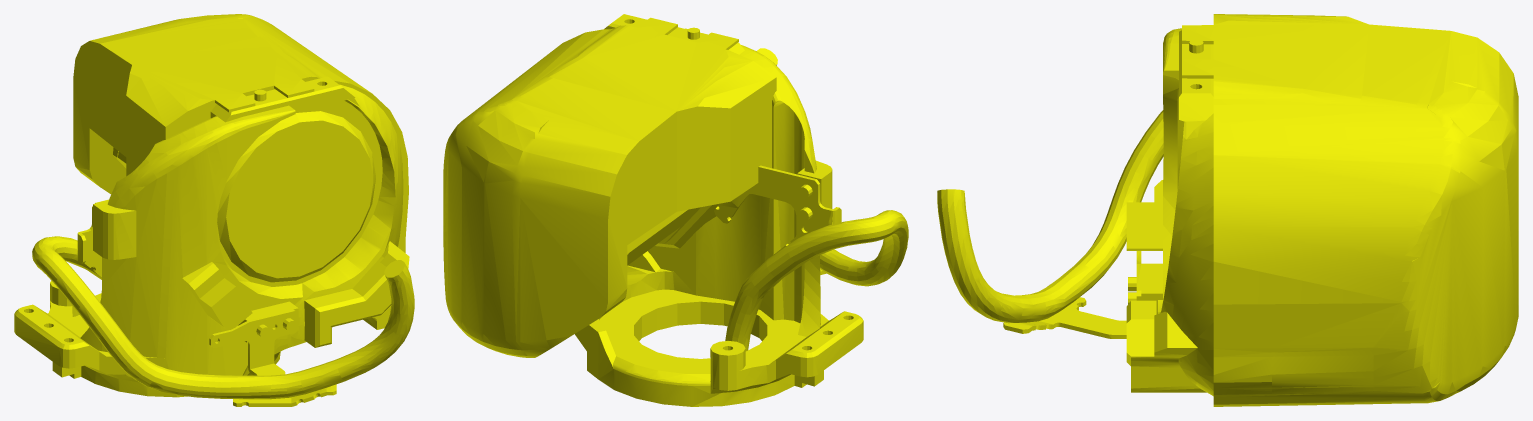
The model's file is arm1.dae.
3 renders of one model, left to right at view 1: azimuth 30°, elevation 25°; view 2: azimuth 150°, elevation 25°; view 3: azimuth 270°, elevation 25°, orthographic. The views are drawn at different scales.
Parts seen in each view (by area): view 1: arm1.001; view 2: arm1.001; view 3: arm1.001.
Part boxes in pixels (x1,y1,x2,y2): arm1.001: [14, 14, 414, 406]; arm1.001: [443, 14, 908, 406]; arm1.001: [937, 14, 1518, 406].
Bounding box in the file's own units: 0.3467 × 0.4005 × 0.2625.
